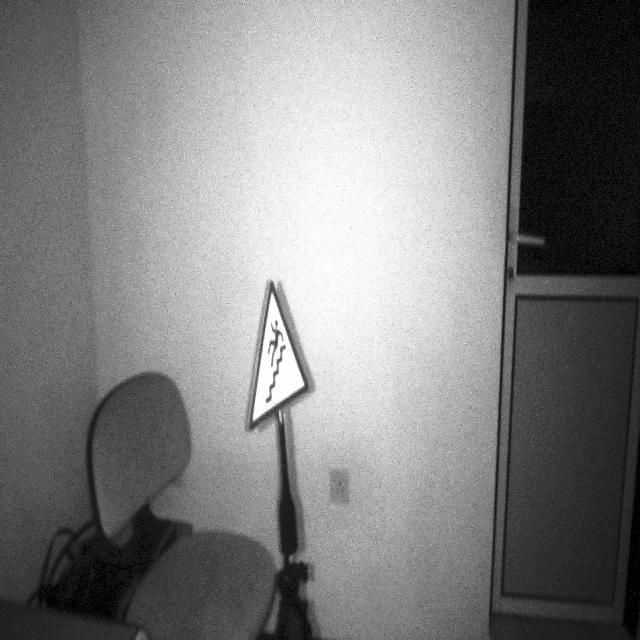Sign: (247, 281, 309, 434)
